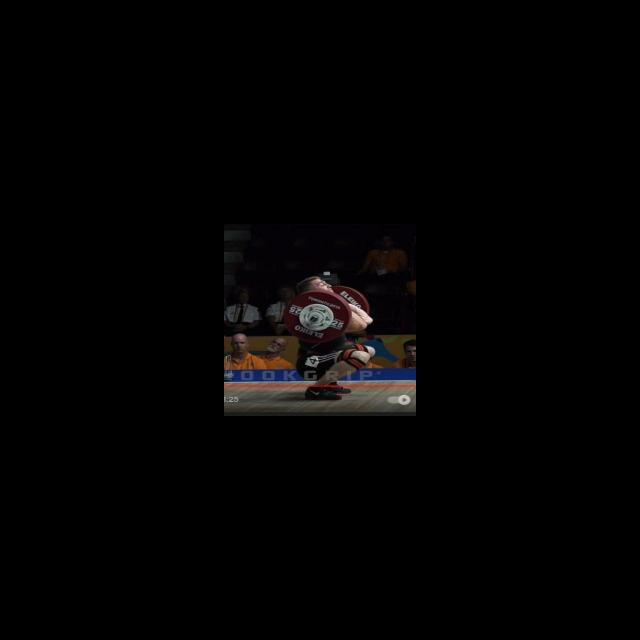barbell: (281, 287, 355, 347)
